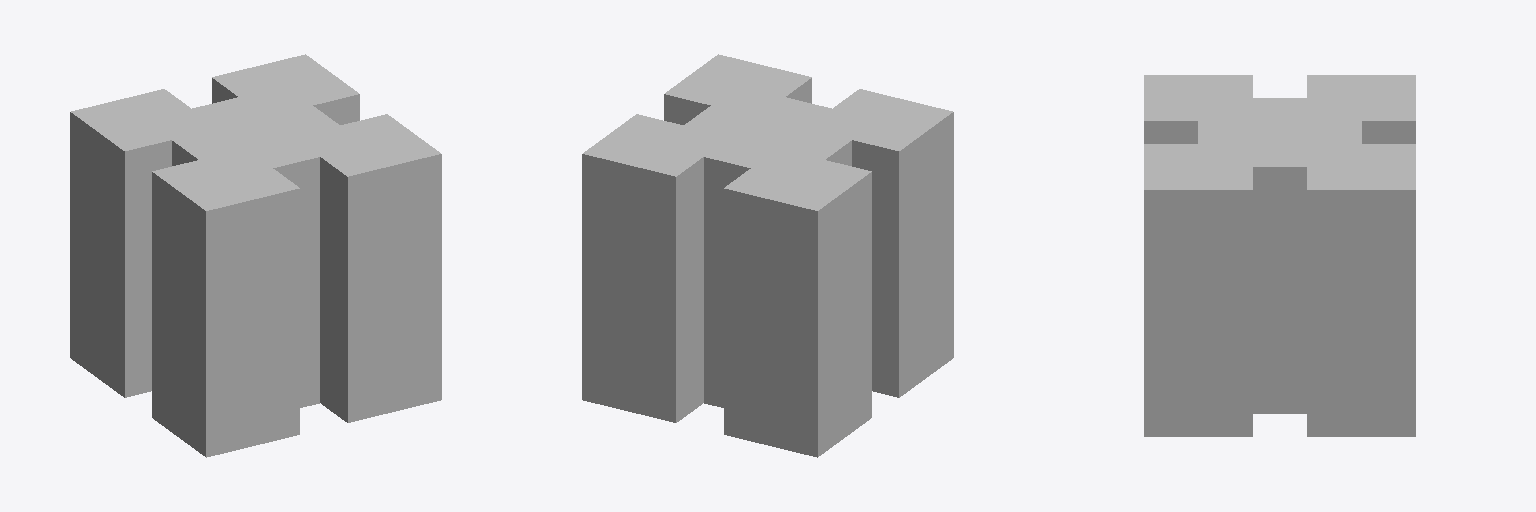
File: pillar.obj
3 views of the same model, side by side, from view 1: azimuth 30°, elevation 25°; view 2: azimuth 150°, elevation 25°; view 3: azimuth 270°, elevation 25° (orthographic).
Parts seen in each view (by area): view 1: Cube; view 2: Cube; view 3: Cube.
Part boxes in pixels (x1,y1,x2,y2): Cube: (70, 54, 441, 457); Cube: (582, 54, 953, 457); Cube: (1144, 75, 1415, 436).
Bounding box in the file's own units: 2 × 2 × 2.